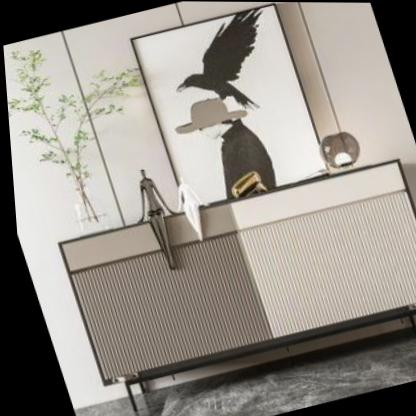Ceramic floor: (69, 337, 416, 416)
Sideboard: (54, 158, 416, 416)
